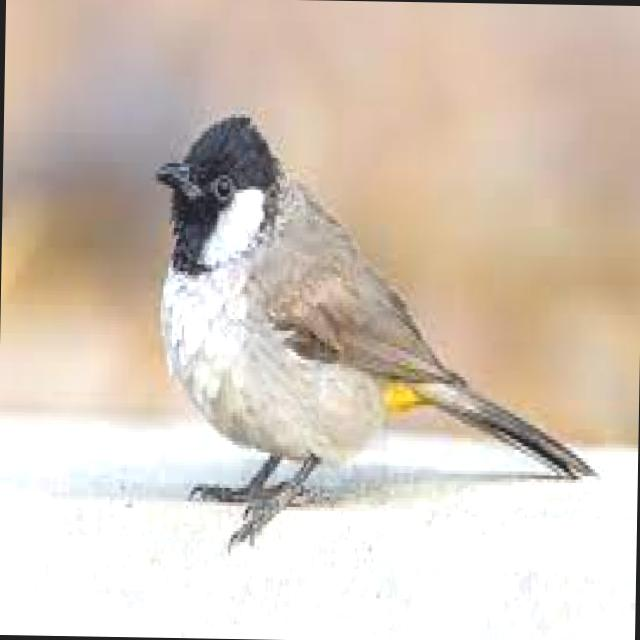bird: (145, 102, 597, 559)
